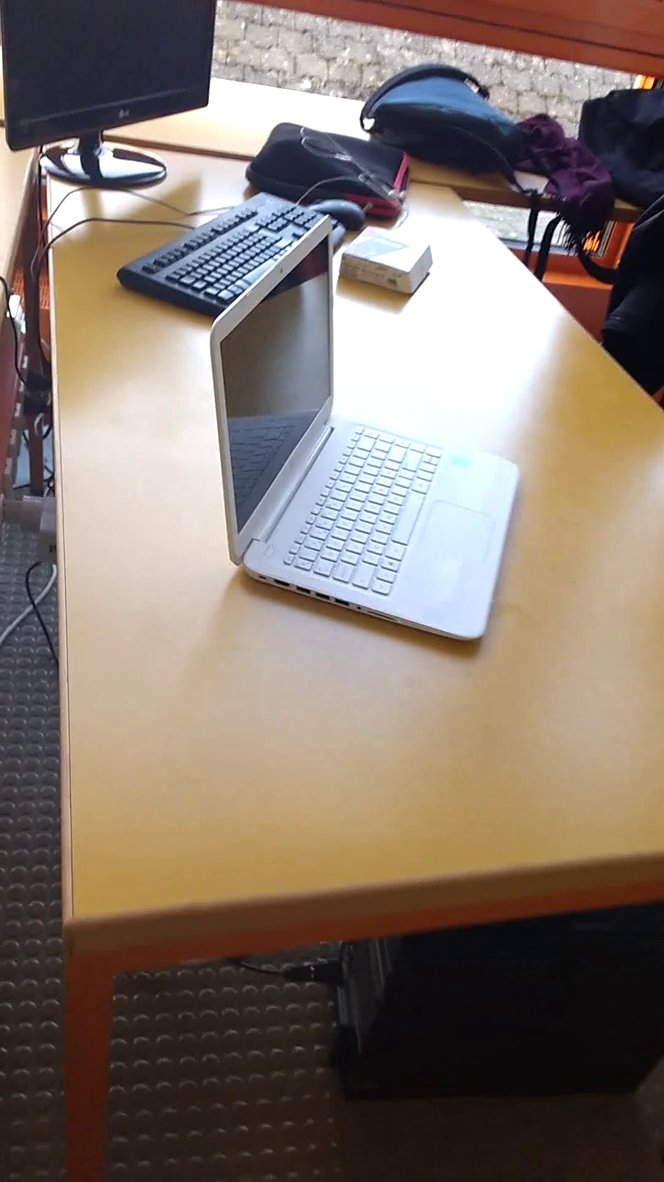bag: (343, 53, 559, 207)
laptop: (199, 205, 535, 669)
